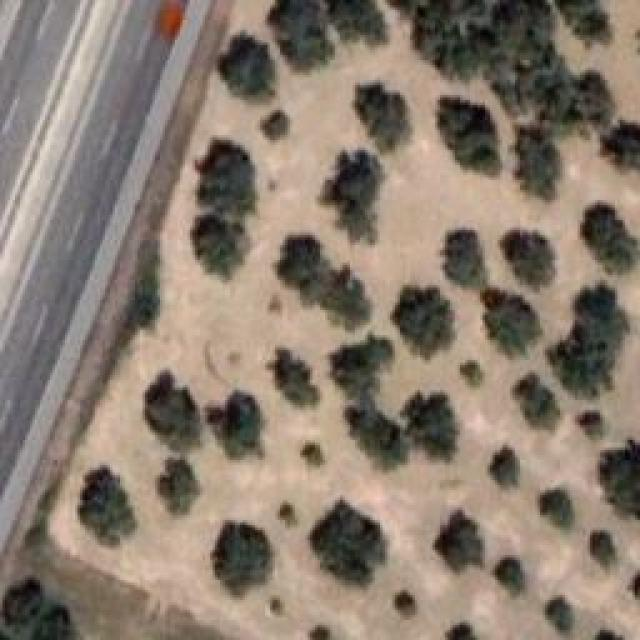Tree: (412, 0, 562, 111), (278, 235, 371, 328), (555, 284, 629, 394), (320, 150, 383, 245), (308, 495, 377, 573), (208, 520, 281, 593), (268, 0, 340, 72), (140, 375, 207, 450), (195, 140, 255, 220), (75, 465, 132, 549), (438, 98, 497, 176), (393, 288, 456, 361), (508, 128, 566, 201), (333, 340, 399, 403), (403, 383, 458, 456), (217, 33, 275, 100), (341, 410, 408, 468), (208, 393, 263, 460), (358, 83, 411, 151), (475, 294, 535, 354), (585, 208, 638, 275), (498, 230, 565, 283), (510, 374, 565, 436), (563, 60, 621, 118), (433, 510, 485, 574), (190, 225, 246, 278), (268, 348, 319, 406), (600, 440, 640, 513), (324, 0, 387, 44), (550, 0, 619, 37), (158, 458, 201, 514), (448, 233, 489, 289), (603, 120, 638, 171), (3, 575, 44, 617), (33, 602, 78, 640), (540, 593, 572, 637), (495, 553, 529, 593), (490, 448, 525, 484), (575, 413, 612, 447), (258, 105, 291, 143), (592, 527, 620, 570), (297, 433, 325, 473), (450, 355, 484, 386), (543, 492, 578, 520), (390, 588, 420, 617), (442, 617, 472, 640), (275, 502, 297, 523), (308, 625, 337, 639)
